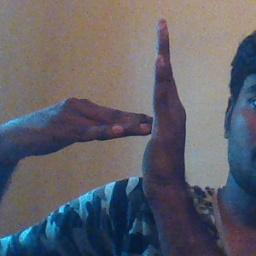Z: (82, 14, 193, 198)
